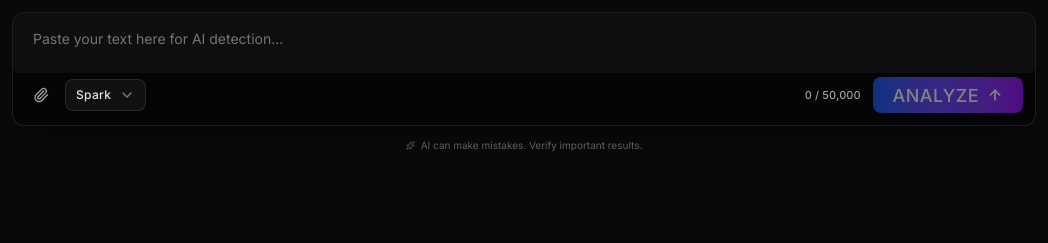
Test case: ChatInput › Model Selection (Dropdown) › renders selected model and opens dropdown
What coordinates should you click on to do the following:
click the button with aria-label "select model"
I would click on:
 (106, 95)
Its box is [65, 79, 146, 111].
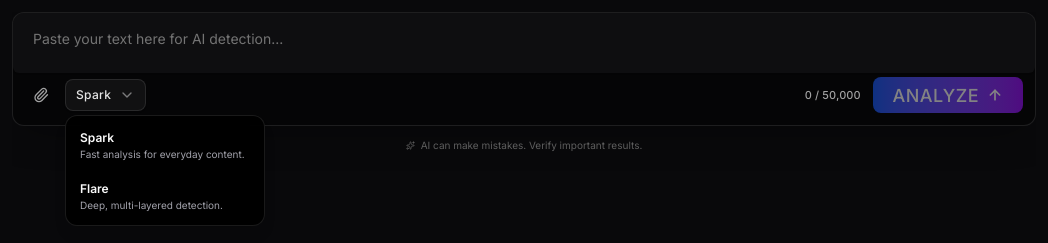
expect the menu item "Spark Fast analysis for everyday content." is shown: met, box [72, 122, 258, 168]
expect the menu item "Flare Deep, multi-layered detection." is shown: met, box [80, 180, 223, 210]
